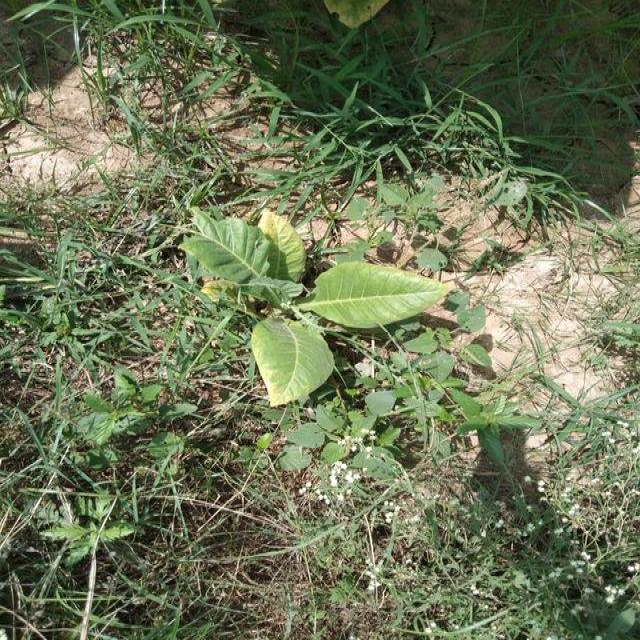crop: (184, 191, 451, 407)
